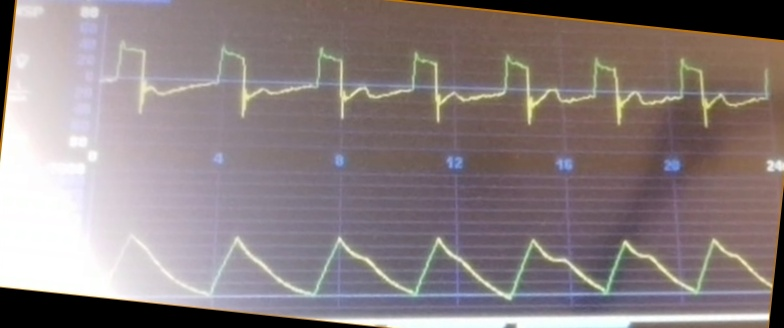Premature_cycling Flow: (104, 34, 770, 128)
Premature_cycling Volume: (103, 228, 770, 304)
